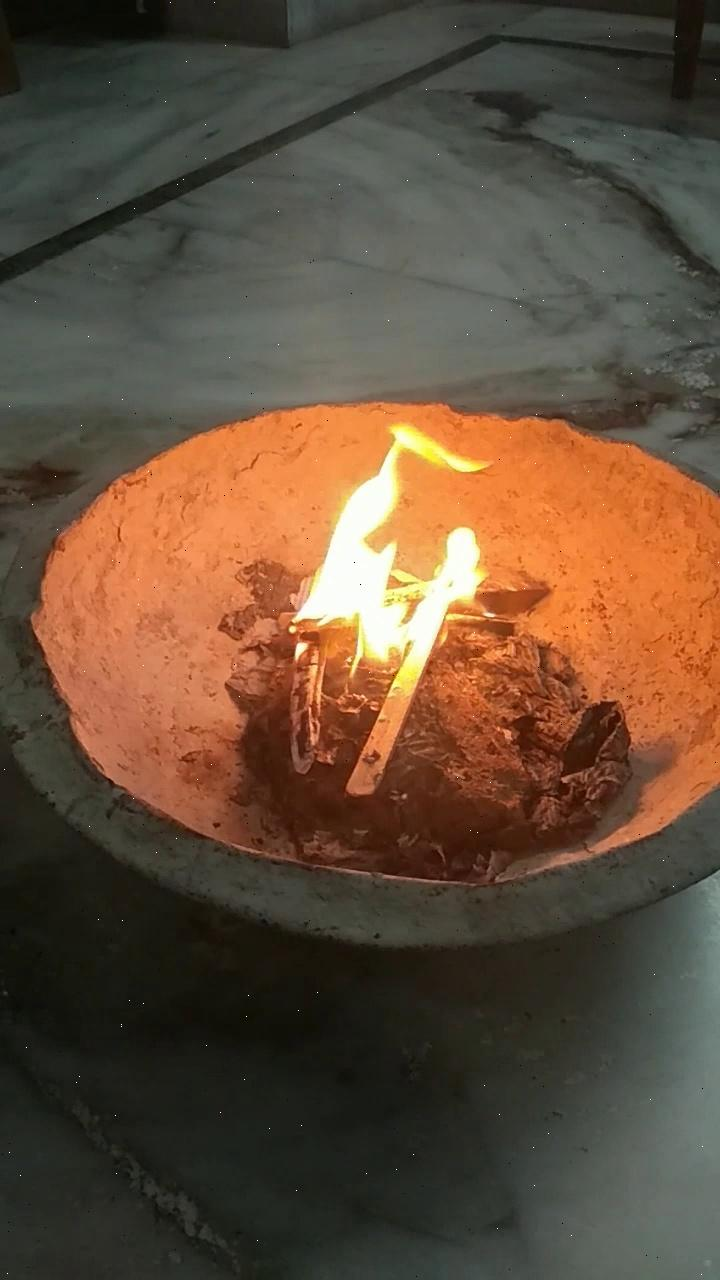fire: (246, 398, 518, 686)
